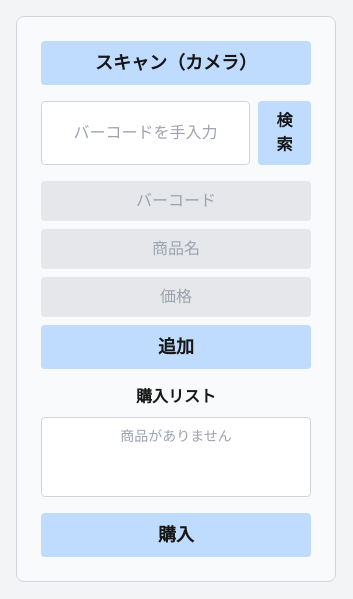
Scenario: Homeページ・カート・購入ボタン › UT-003: 商品スキャン後、商品リストに表示される
Type "4901234567054" into the field with placeholder "バーコードを手入力".
click(146, 133); type("4901234567054")  # box x1=41 y1=101 x2=250 y2=165
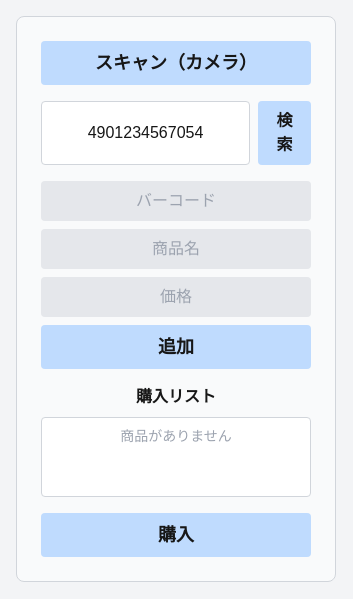
Click the button "検索".
click(284, 133)  # box x1=258 y1=101 x2=311 y2=165
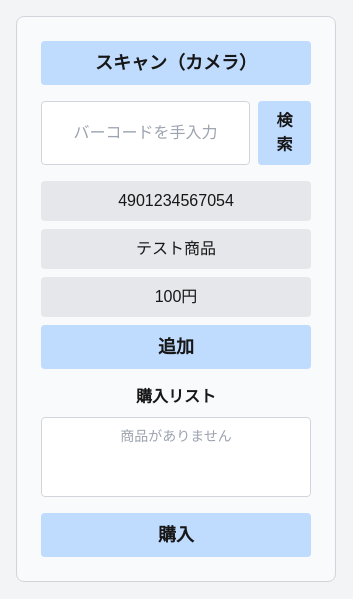
Expected: the 2nd field showing "テスト商品" is shown, x1=41 y1=229 x2=311 y2=269
Expected: the 3rd field showing "100円" is shown, x1=41 y1=277 x2=311 y2=317
